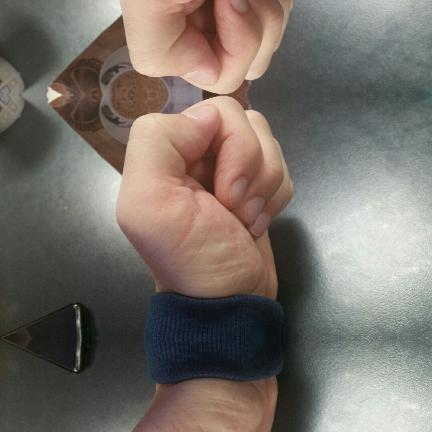Nail: (228, 176, 249, 207), (244, 197, 265, 224), (249, 213, 270, 236), (183, 104, 212, 118), (183, 70, 212, 84), (230, 0, 249, 12)
